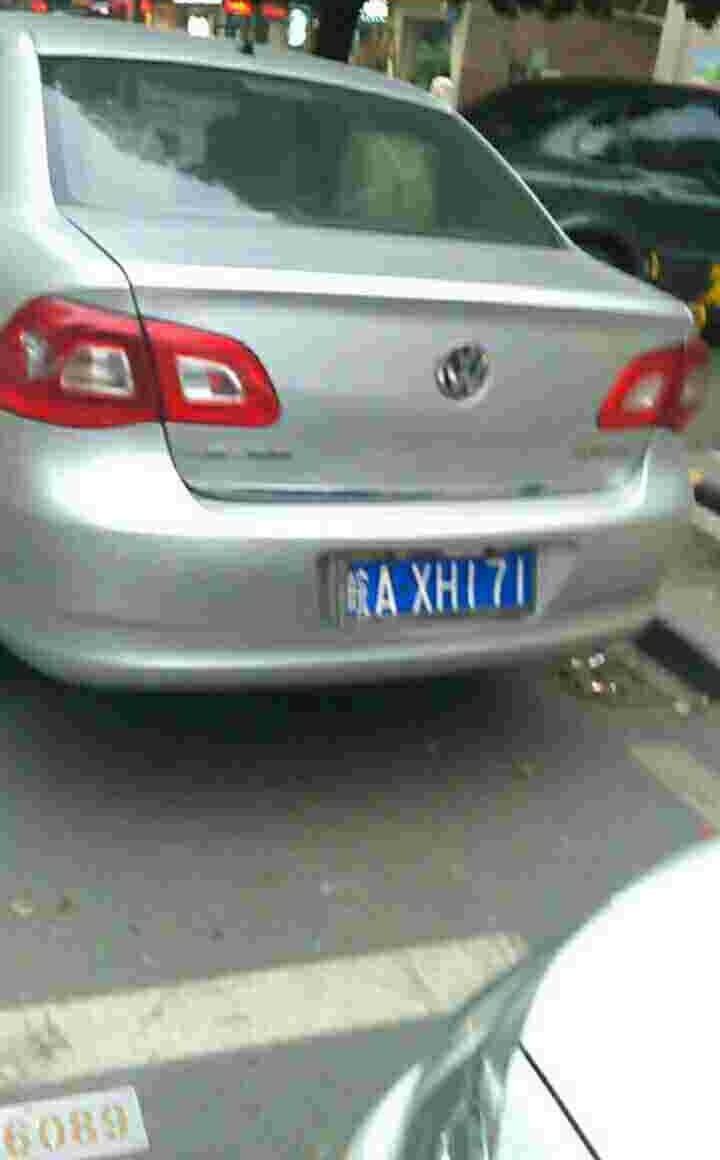license_plate: (342, 546, 536, 620)
